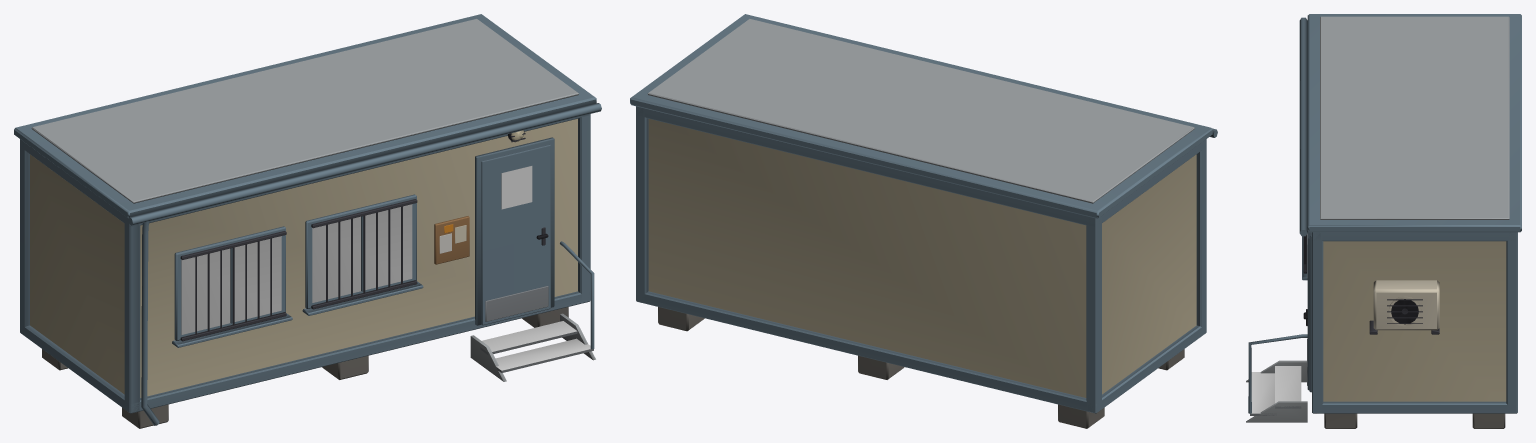
The model's file is SiteCabin.fbx.
The picture shows the model from 3 angles, left to right: view 1: azimuth 30°, elevation 25°; view 2: azimuth 150°, elevation 25°; view 3: azimuth 270°, elevation 25°; orthographic projection. The views are drawn at different scales.
Parts seen in each view (by area): view 1: SiteCabin; view 2: SiteCabin; view 3: SiteCabin.
Boxes of the visible parts, <box> form: SiteCabin: <box>14,14,601,428</box>; SiteCabin: <box>630,14,1217,428</box>; SiteCabin: <box>1246,14,1521,428</box>.
Bounding box in the file's own units: 6.37 × 2.88 × 3.35.
